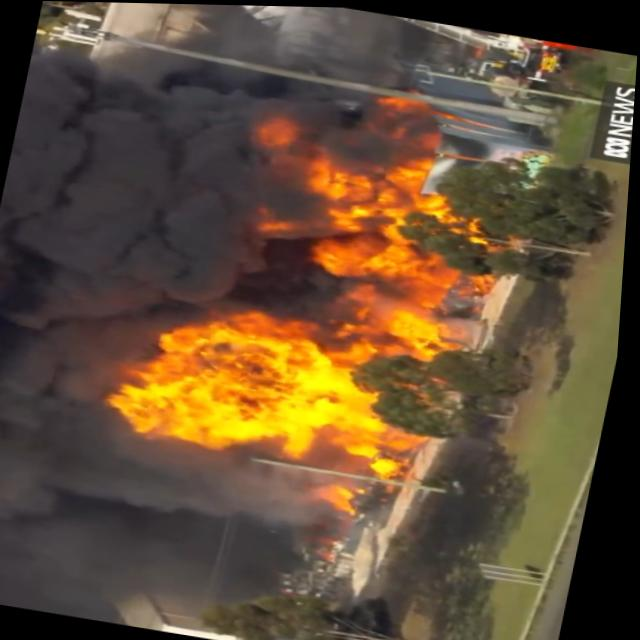Fire: (96, 74, 552, 524)
